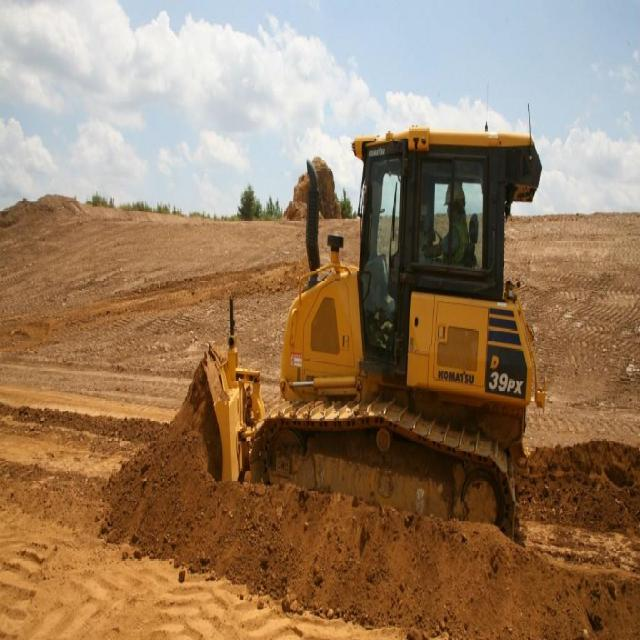Bulldozer: (200, 98, 560, 543)
